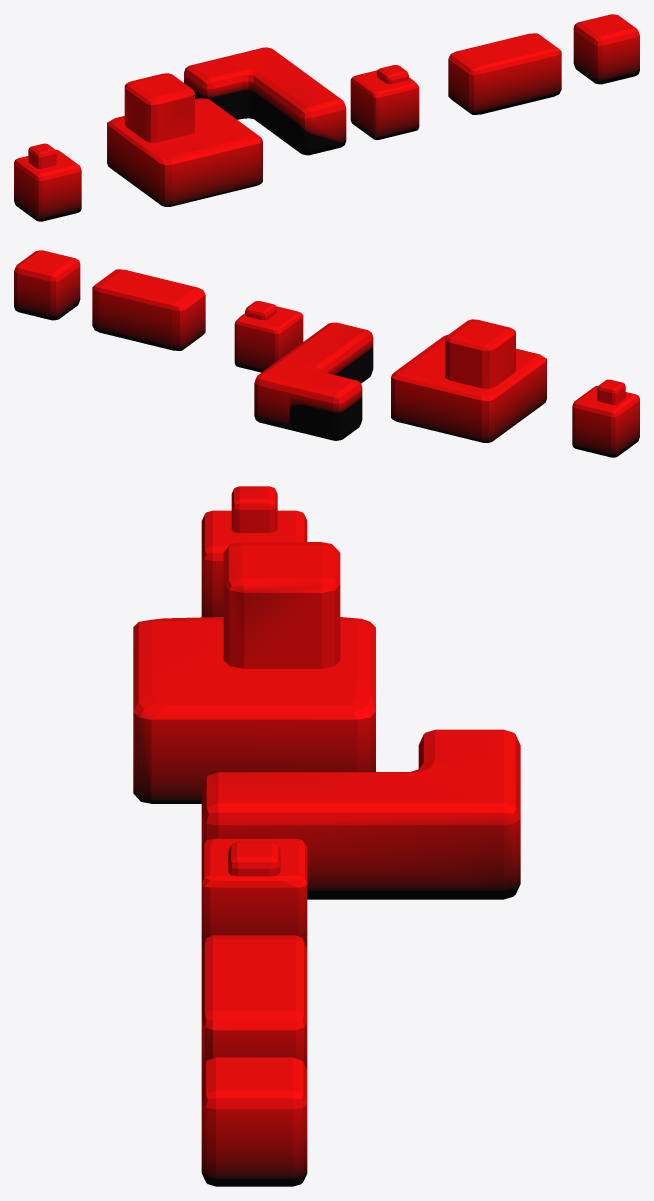
File: HOUSES.fbx
3 views of the same model, one above another, from view 1: azimuth 30°, elevation 25°; view 2: azimuth 150°, elevation 25°; view 3: azimuth 270°, elevation 25° (orthographic). The views are drawn at different scales.
Visible parts, largest first — view 1: Cube.004, Cube.003, Cube.001, Cube.002, Cube.006, Cube; view 2: Cube.004, Cube.003, Cube.001, Cube.006, Cube, Cube.002; view 3: Cube.004, Cube.003, Cube, Cube.001, Cube.002, Cube.006.
Part boxes in pixels (x1,y1,x2,y2): Cube.004: [107, 73, 262, 206]; Cube.003: [184, 47, 346, 155]; Cube.001: [448, 33, 561, 114]; Cube.002: [350, 65, 419, 139]; Cube.006: [14, 143, 81, 221]; Cube: [573, 14, 639, 84]; Cube.004: [391, 319, 546, 442]; Cube.003: [254, 322, 373, 440]; Cube.001: [92, 269, 205, 350]; Cube.006: [572, 379, 639, 457]; Cube: [14, 250, 80, 320]; Cube.002: [234, 301, 303, 372]; Cube.004: [133, 542, 375, 803]; Cube.003: [201, 729, 520, 899]; Cube: [201, 1057, 307, 1186]; Cube.001: [201, 935, 307, 1070]; Cube.002: [201, 838, 307, 948]; Cube.006: [201, 486, 307, 617].
Size of the model in its own units: 26.43 by 3.73 by 7.33.
